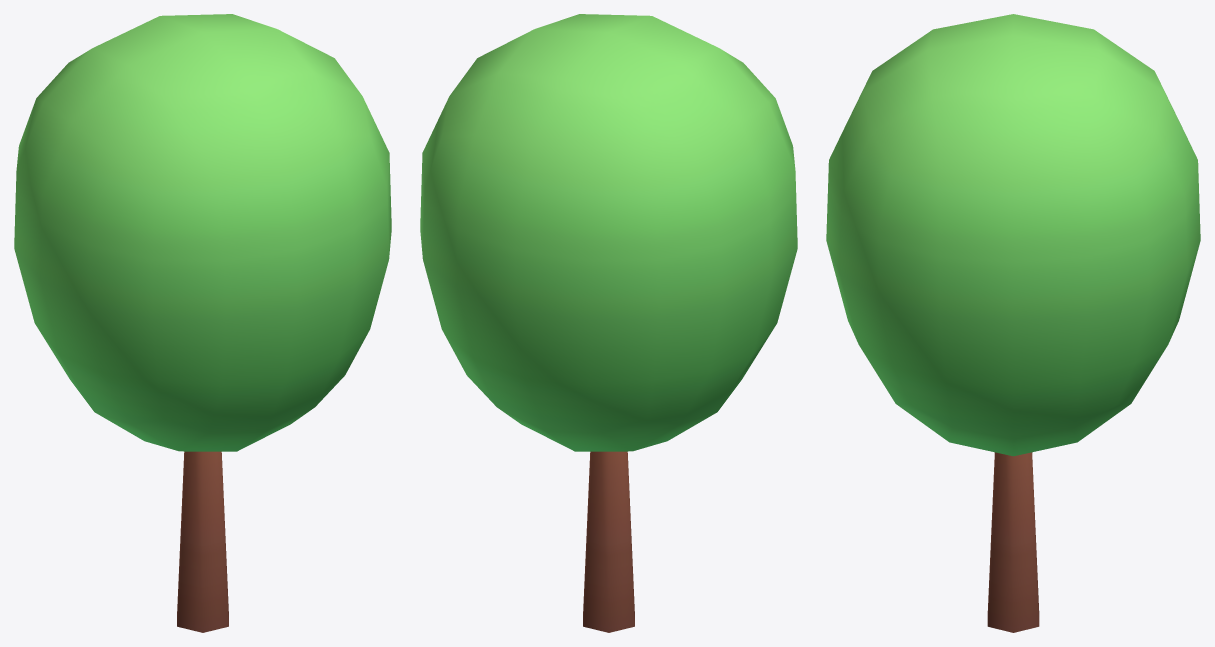
File: city2-tree-05.glb
3 views of the same model, side by side, from view 1: azimuth 30°, elevation 25°; view 2: azimuth 150°, elevation 25°; view 3: azimuth 270°, elevation 25° (orthographic).
Visible parts, largest first — view 1: Tree_05; view 2: Tree_05; view 3: Tree_05.
Part boxes in pixels (x1,y1,x2,y2): Tree_05: (14,14,391,632); Tree_05: (420,14,797,632); Tree_05: (826,14,1200,632).
Bounding box in the file's own units: 3.56 × 6.13 × 3.56.
Materials: 1 (1 with a texture image).
